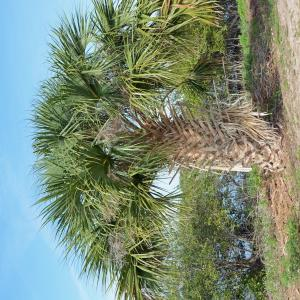palm tree: (16, 0, 282, 300)
